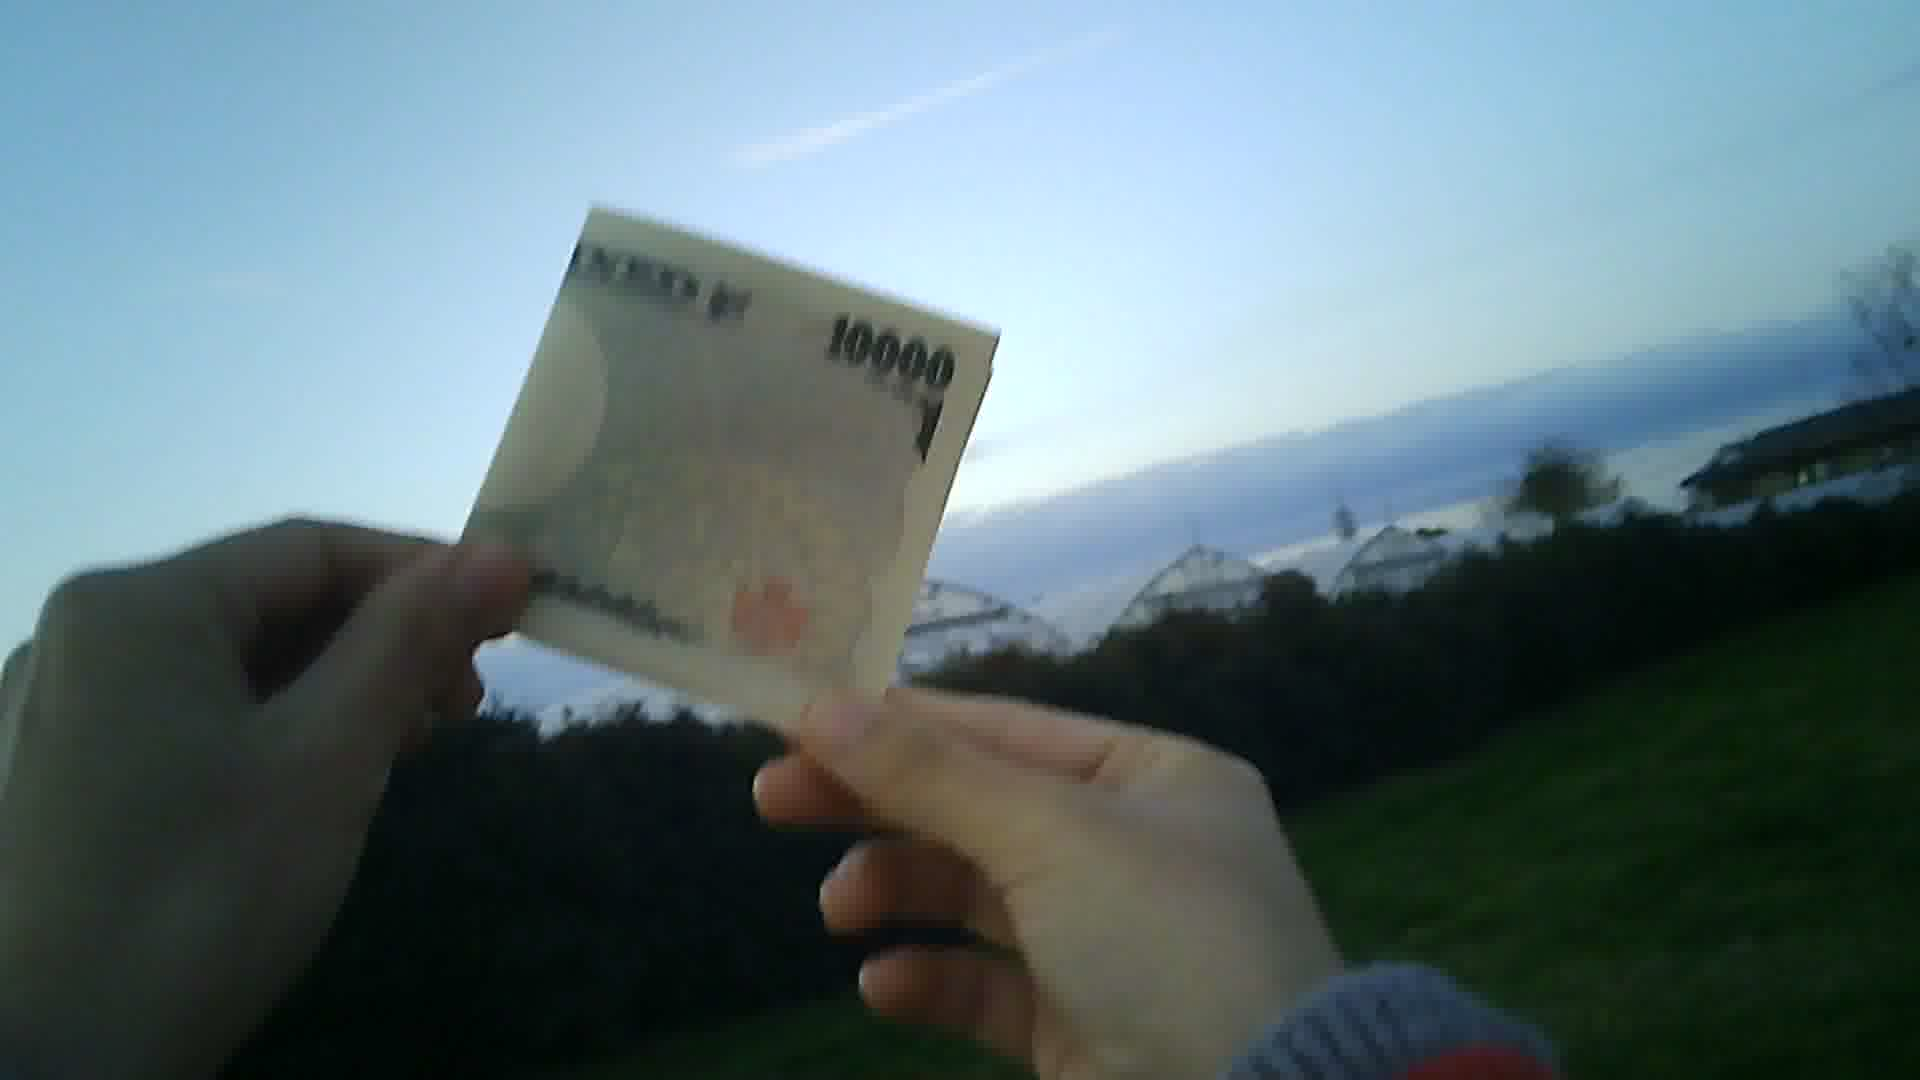10,000 Yen: (444, 181, 982, 705)
